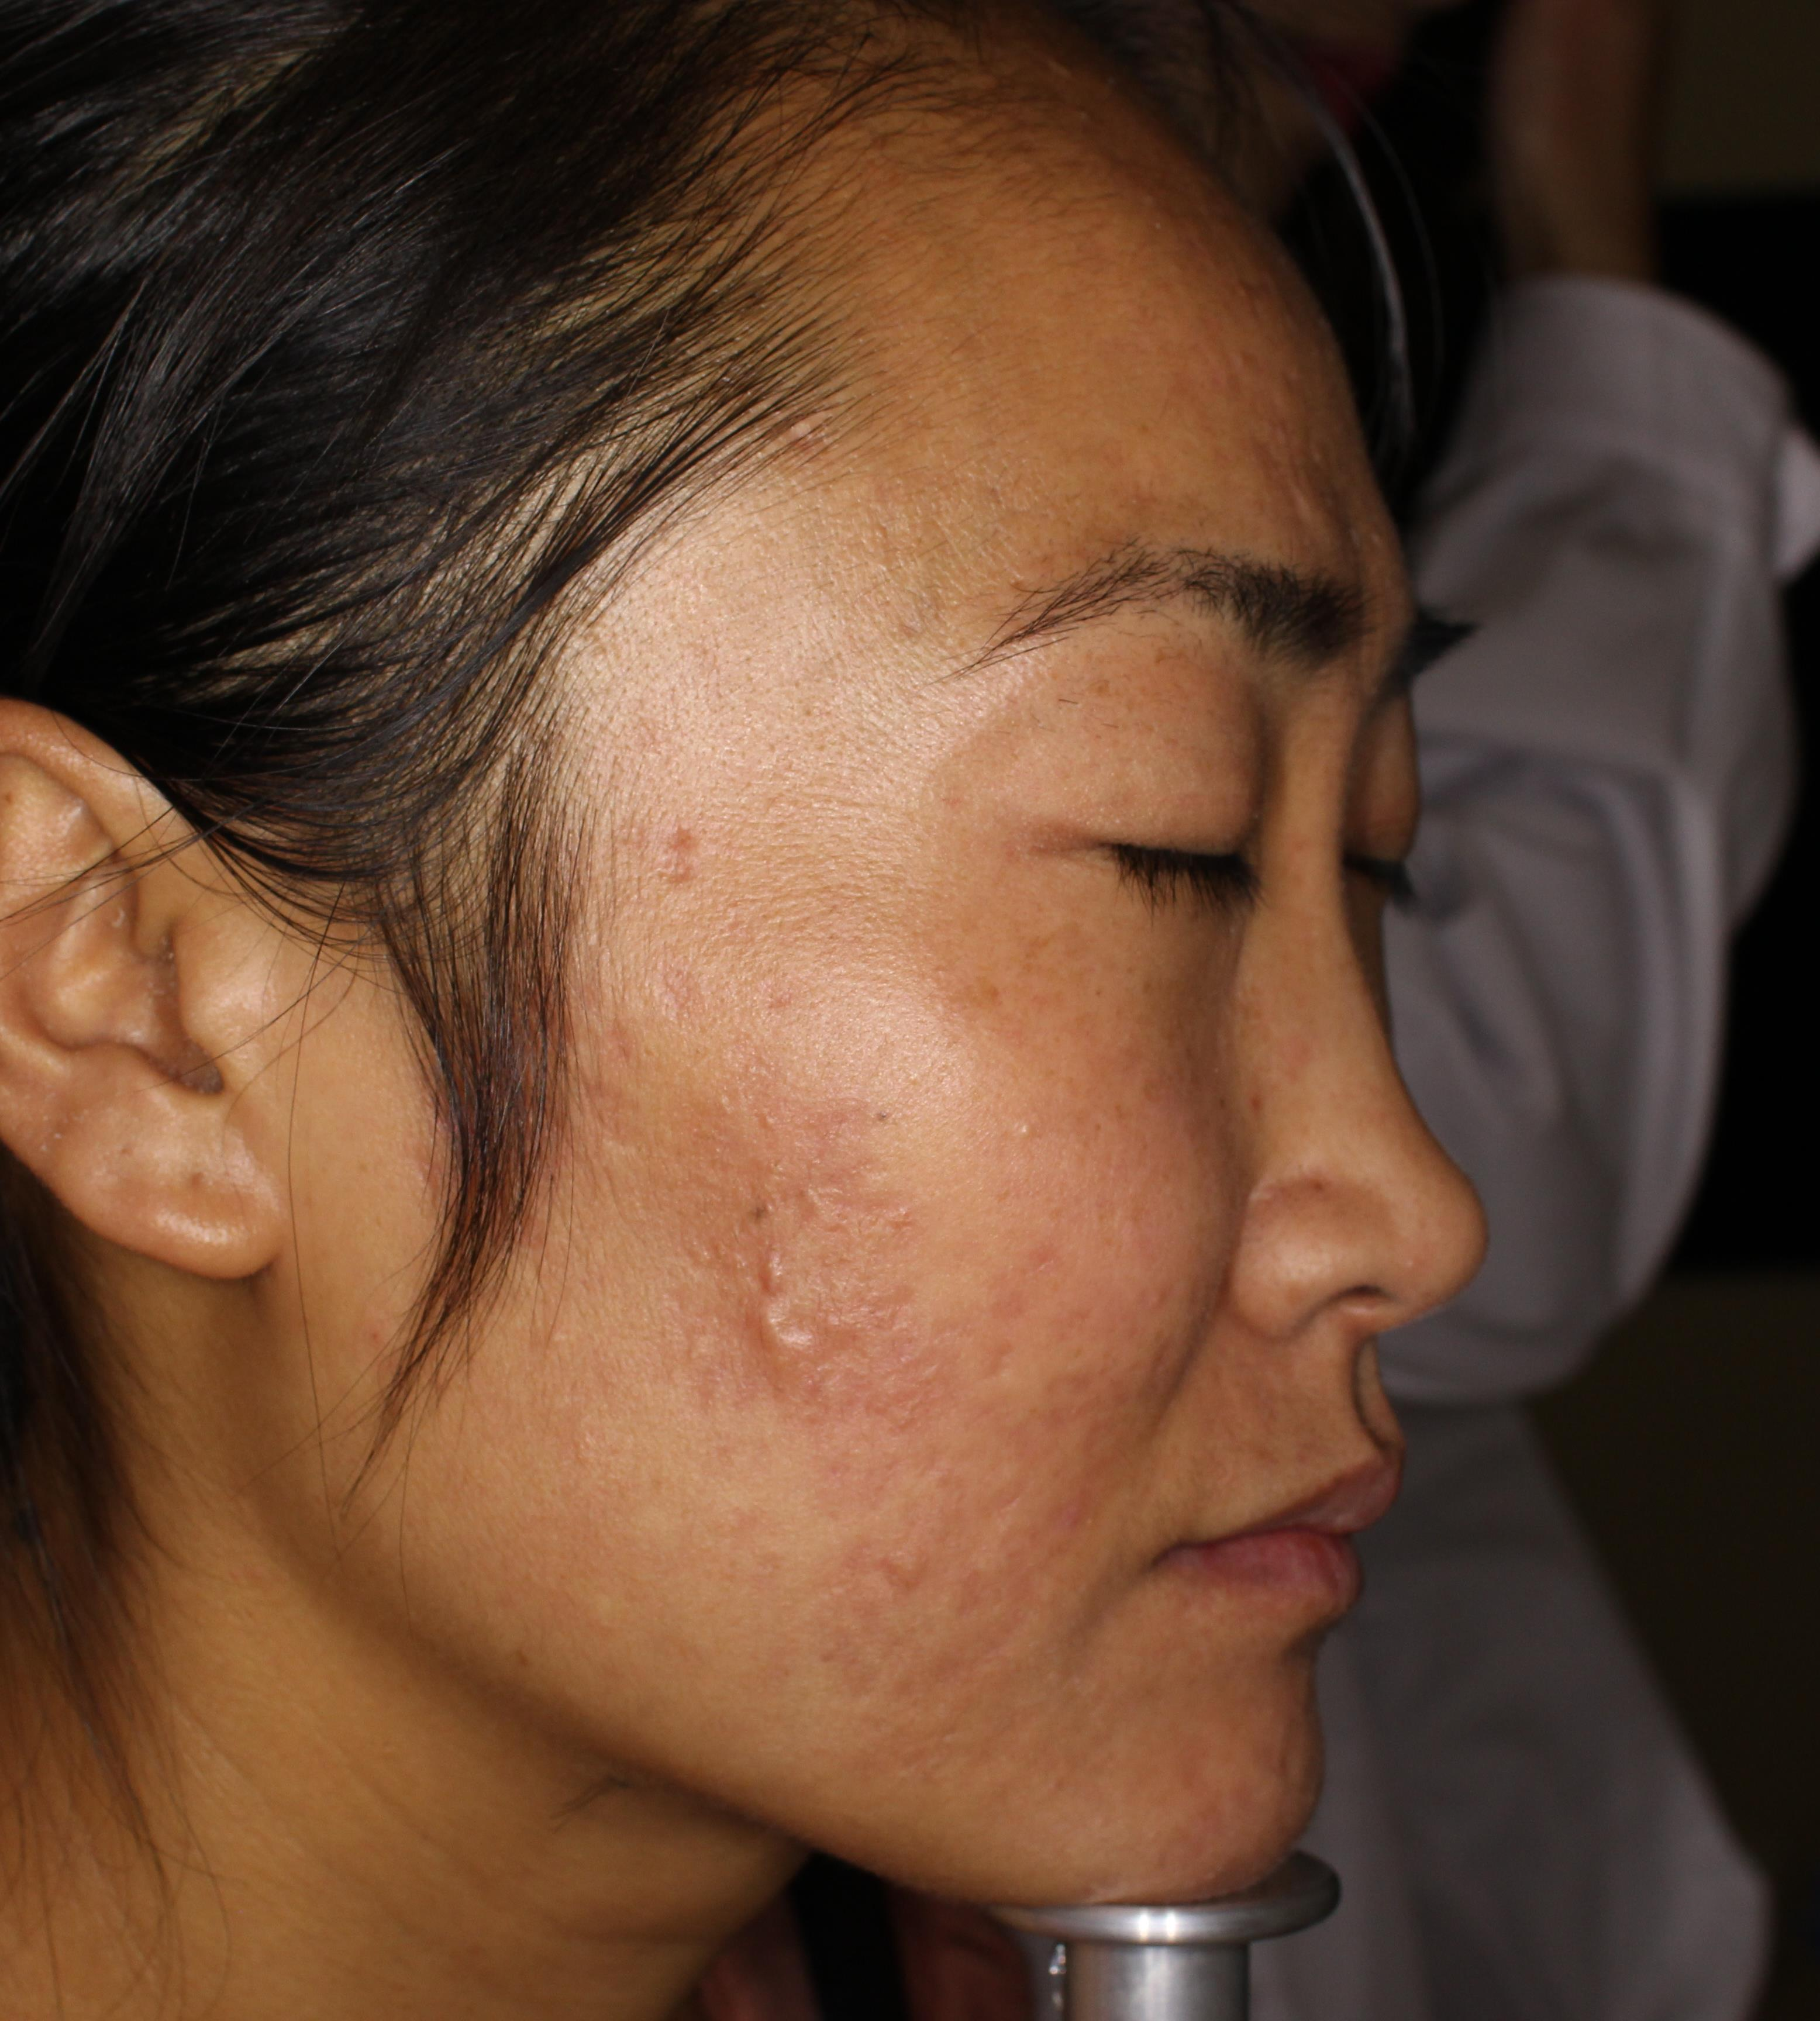fore: (736, 1320, 852, 1387), (722, 1226, 817, 1303)
